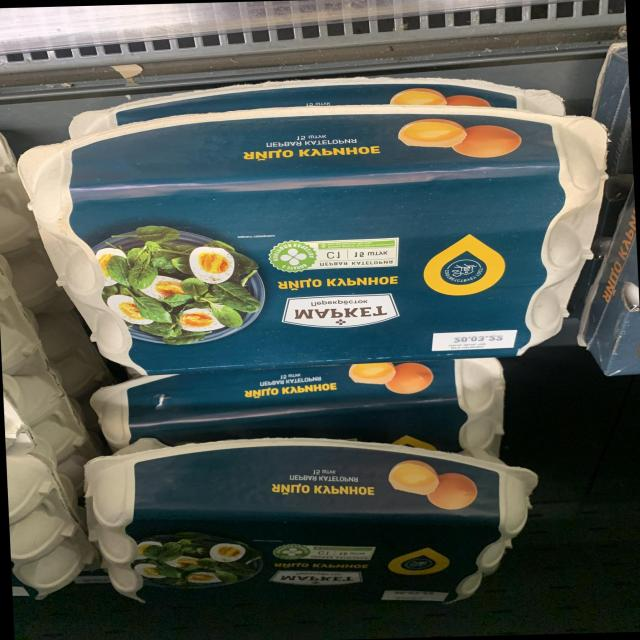organic waste: (14, 109, 616, 375), (86, 429, 544, 620), (91, 358, 513, 453)
